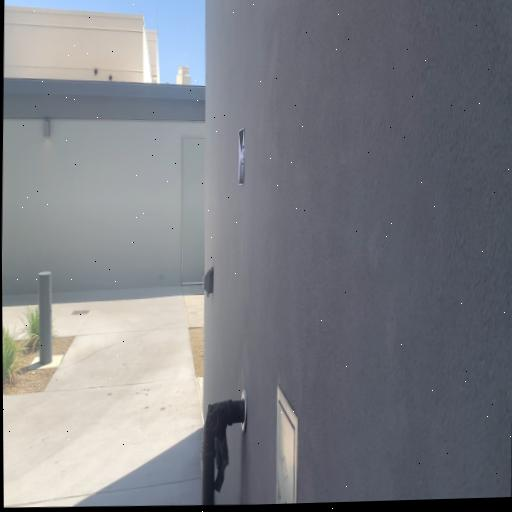target3: (238, 126, 245, 186)
